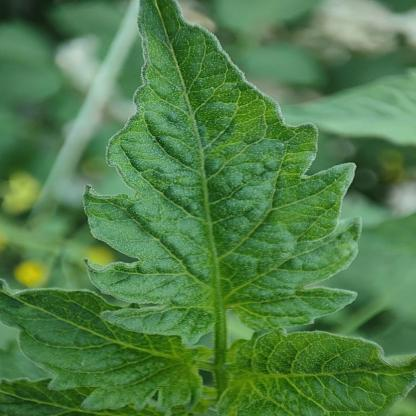T_L_R: (86, 1, 361, 366), (2, 286, 203, 411), (218, 332, 416, 416)
